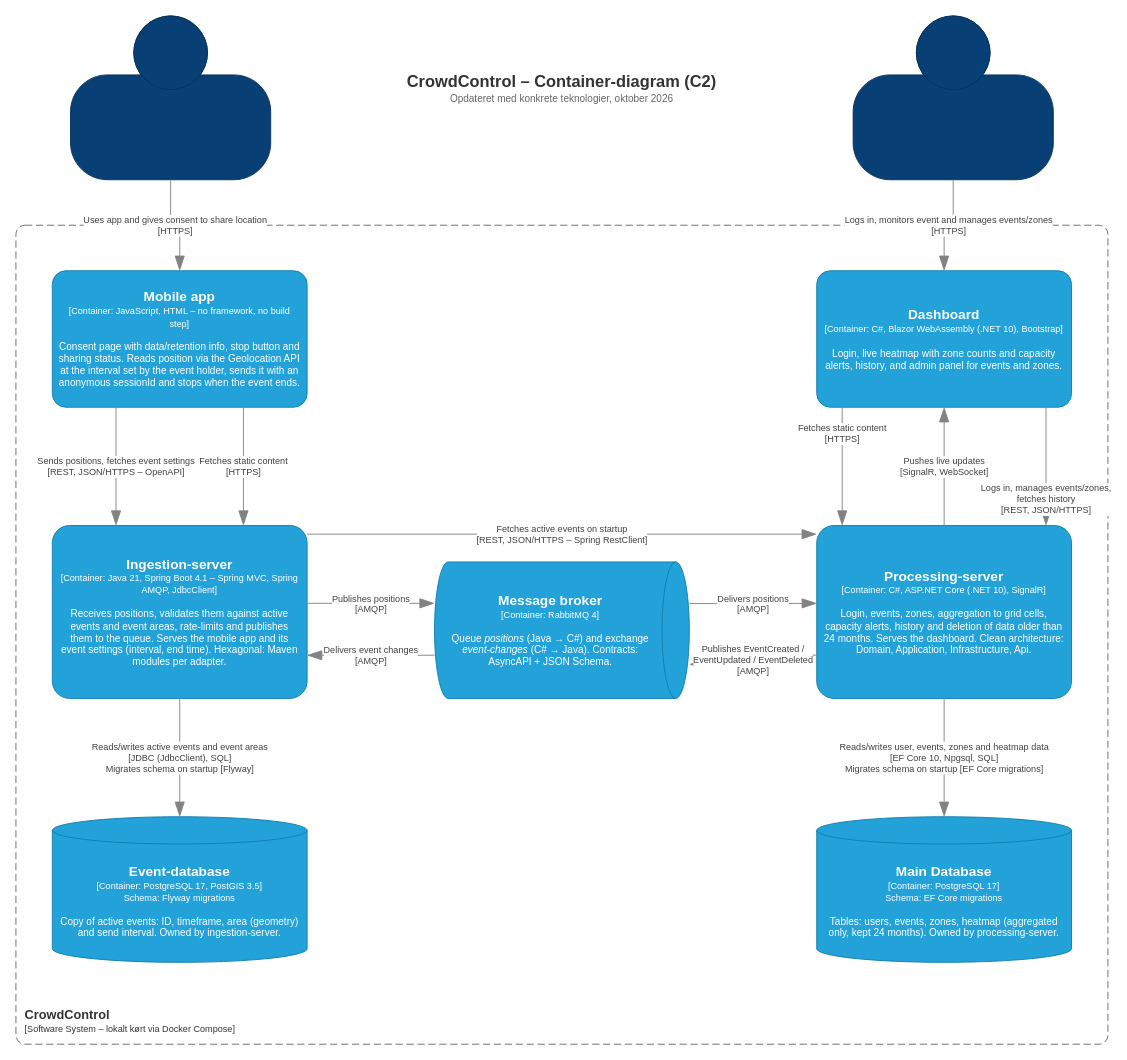
Image size: 1127x1060. Some labels were removed from this diagram. Each missing label, with the centre of its shape:
"Event Holder [Person] Worker at e.g. a festival who monitors the event" belongs at point (952, 97).
"Event Participant [Person] Participates in event and shares location" belongs at point (170, 97).
